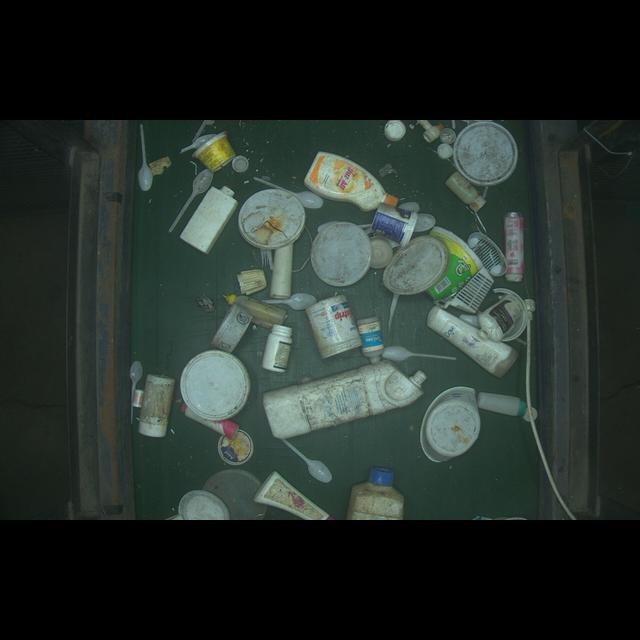mix PP: (300, 143, 411, 213), (497, 206, 526, 285), (186, 131, 241, 171), (369, 203, 420, 245), (261, 318, 295, 375), (209, 429, 254, 469)
